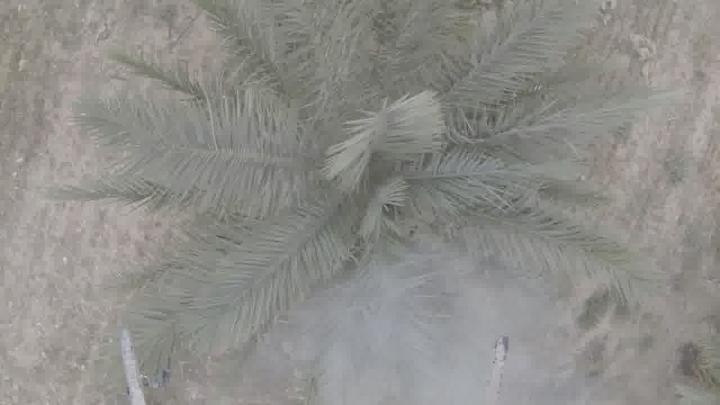Date-Palm-Crown: (227, 55, 573, 323)
